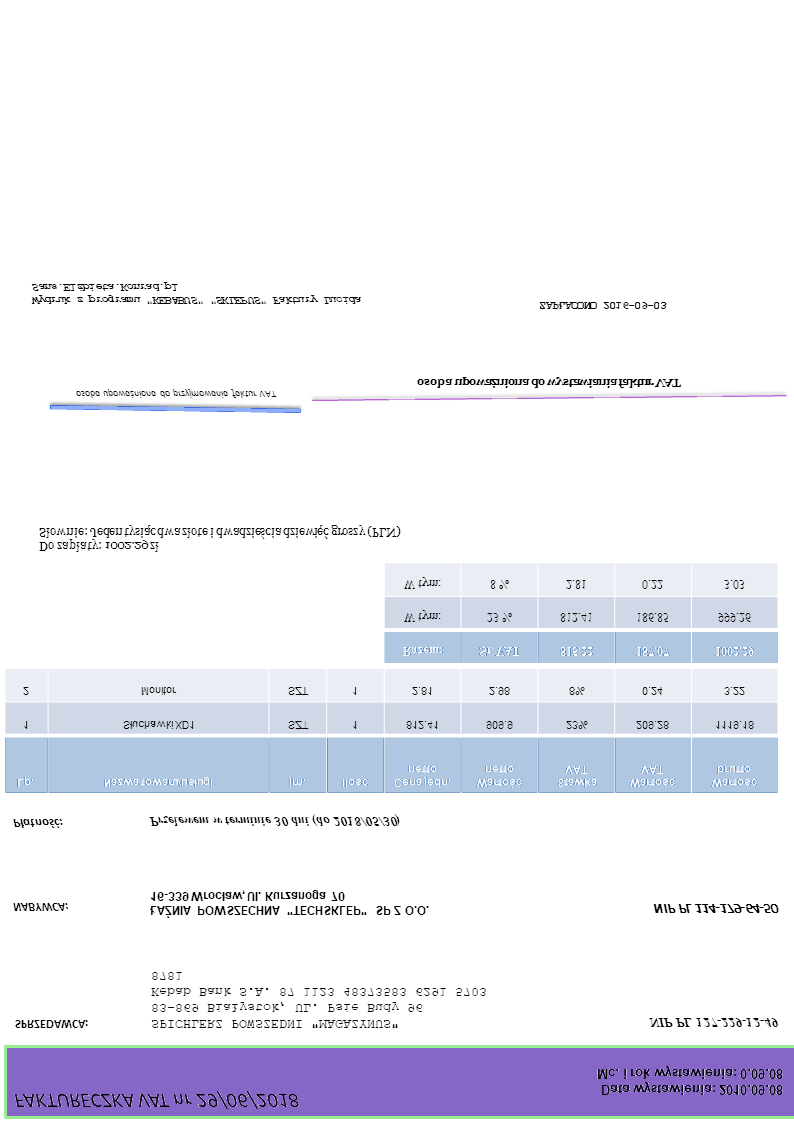Table: (2, 667, 780, 795), (383, 562, 779, 665)
TextBox: (149, 969, 489, 1033), (36, 523, 402, 555), (29, 281, 363, 309), (148, 889, 430, 921), (12, 1089, 301, 1112), (594, 1065, 785, 1099), (146, 811, 403, 830), (415, 375, 683, 393), (72, 387, 278, 401), (647, 1014, 780, 1031), (651, 901, 782, 916), (537, 298, 668, 313), (12, 1017, 91, 1032), (9, 900, 72, 915), (11, 816, 65, 832)
